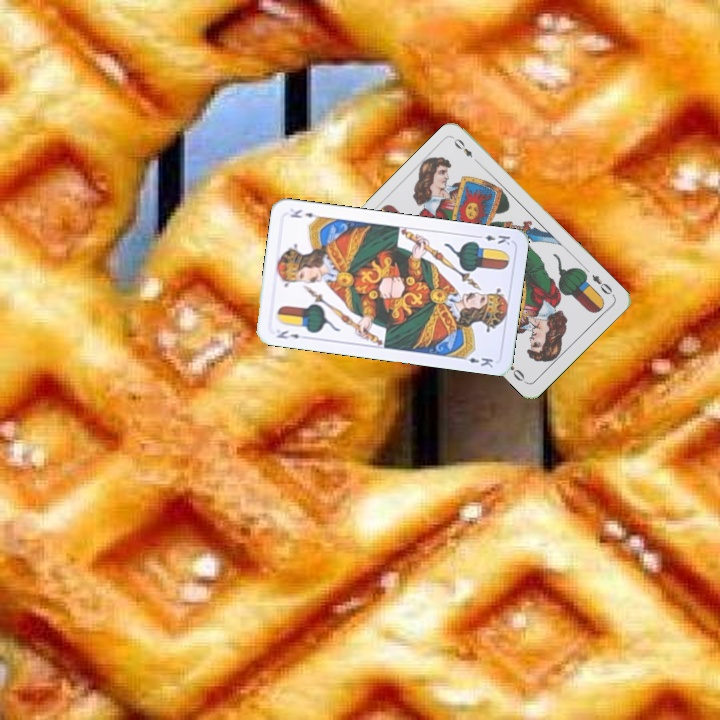EK: (472, 231, 513, 248), (273, 326, 302, 341)
EO: (588, 270, 617, 299)
